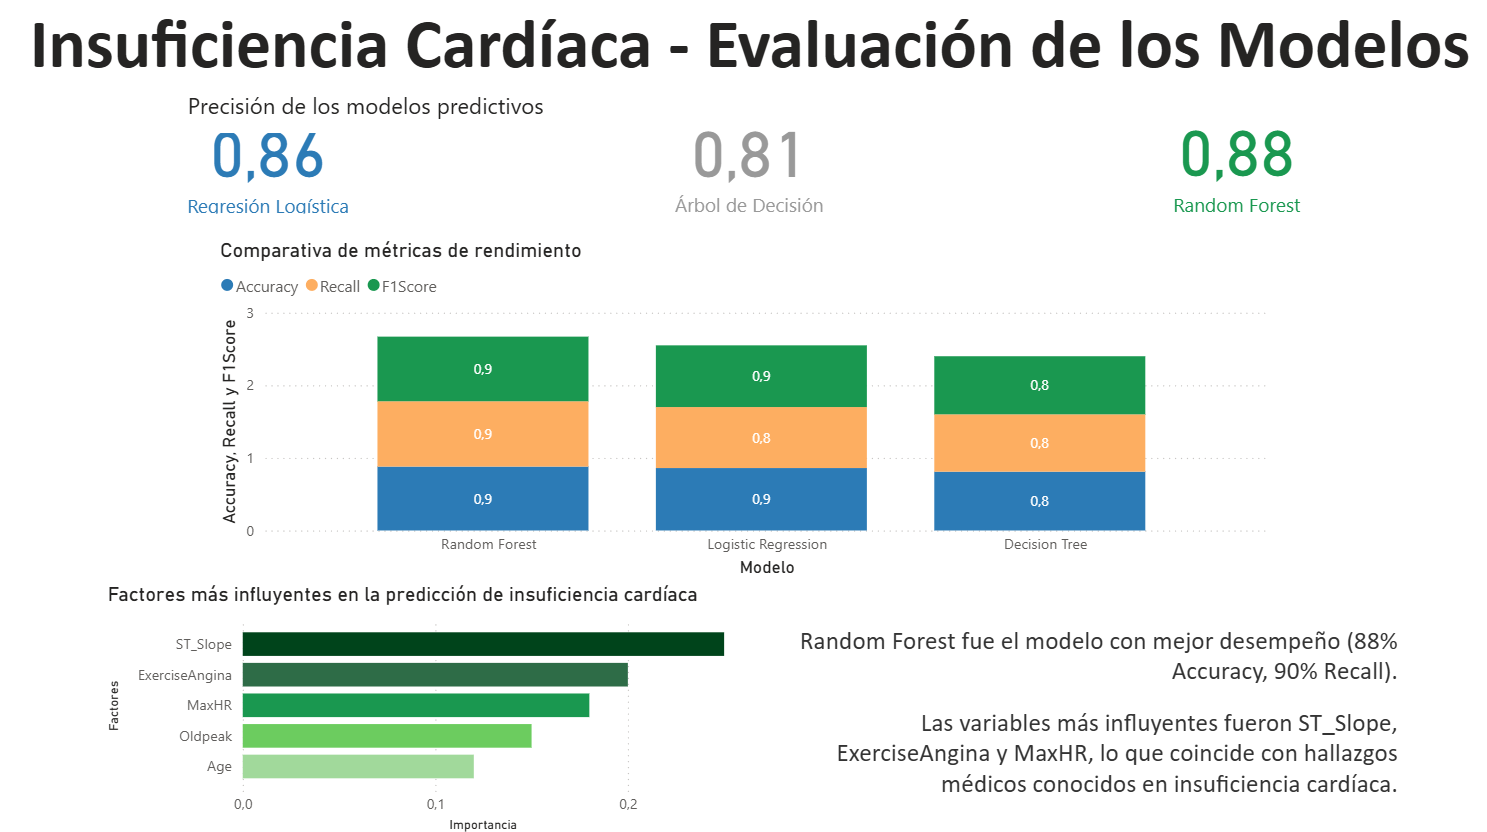

The page's visual inventory and layout, read from the dashboard file:
{"tool":"powerbi","page":{"name":"Predicción / Modelos","canvas":[1280,720],"ordinal":1},"visuals":[{"type":"card","fields":{"Values":["Sum(model_metrics.Accuracy)"]},"box":[505.8,97.7,277.9,102.3],"z":0},{"type":"card","fields":{"Values":["Sum(model_metrics.Accuracy)"]},"box":[915.1,95.3,280.2,105.8],"z":1000},{"type":"actionButton","box":[0,0,100,40],"z":2000},{"type":"card","fields":{"Values":["Sum(model_metrics.Accuracy)"]},"box":[100,98.8,280.2,101.2],"z":3000},{"type":"columnChart","title":"Comparativa de métricas de rendimiento","fields":{"Category":["model_metrics.Model"],"Y":["Sum(model_metrics.Accuracy)","Sum(model_metrics.Recall)","Sum(model_metrics.F1Score)"]},"box":[194.2,215.1,891.9,289.5],"z":4000},{"type":"textbox","box":[10,10,1269.8,75.6],"z":5000},{"type":"textbox","box":[167.4,86,402.3,40.7],"z":6000},{"type":"barChart","title":"Factores más influyentes en la predicción de insuficiencia cardíaca","fields":{"Category":["feature_importance.Feature"],"Y":["Sum(feature_importance.Importance)"]},"box":[100,504.7,540.7,215.1],"z":7000},{"type":"textbox","box":[650,536,545.4,170.9],"z":8000}]}

Visuals, with their boxes in screenshot pixels (x1, y1, x2, y2), scaled from the page's 1280x720 canvas onto the 1487x832 screenshot:
card - Sum(model_metrics.Accuracy): {"left": 588, "top": 113, "right": 910, "bottom": 231}
card - Sum(model_metrics.Accuracy): {"left": 1063, "top": 110, "right": 1389, "bottom": 232}
actionButton: {"left": 0, "top": 0, "right": 116, "bottom": 46}
card - Sum(model_metrics.Accuracy): {"left": 116, "top": 114, "right": 442, "bottom": 231}
"Comparativa de métricas de rendimiento" columnChart: {"left": 226, "top": 249, "right": 1262, "bottom": 583}
textbox: {"left": 12, "top": 12, "right": 1486, "bottom": 99}
textbox: {"left": 194, "top": 99, "right": 662, "bottom": 146}
"Factores más influyentes en la predicción de insuficiencia cardíaca" barChart: {"left": 116, "top": 583, "right": 744, "bottom": 831}
textbox: {"left": 755, "top": 619, "right": 1389, "bottom": 817}
